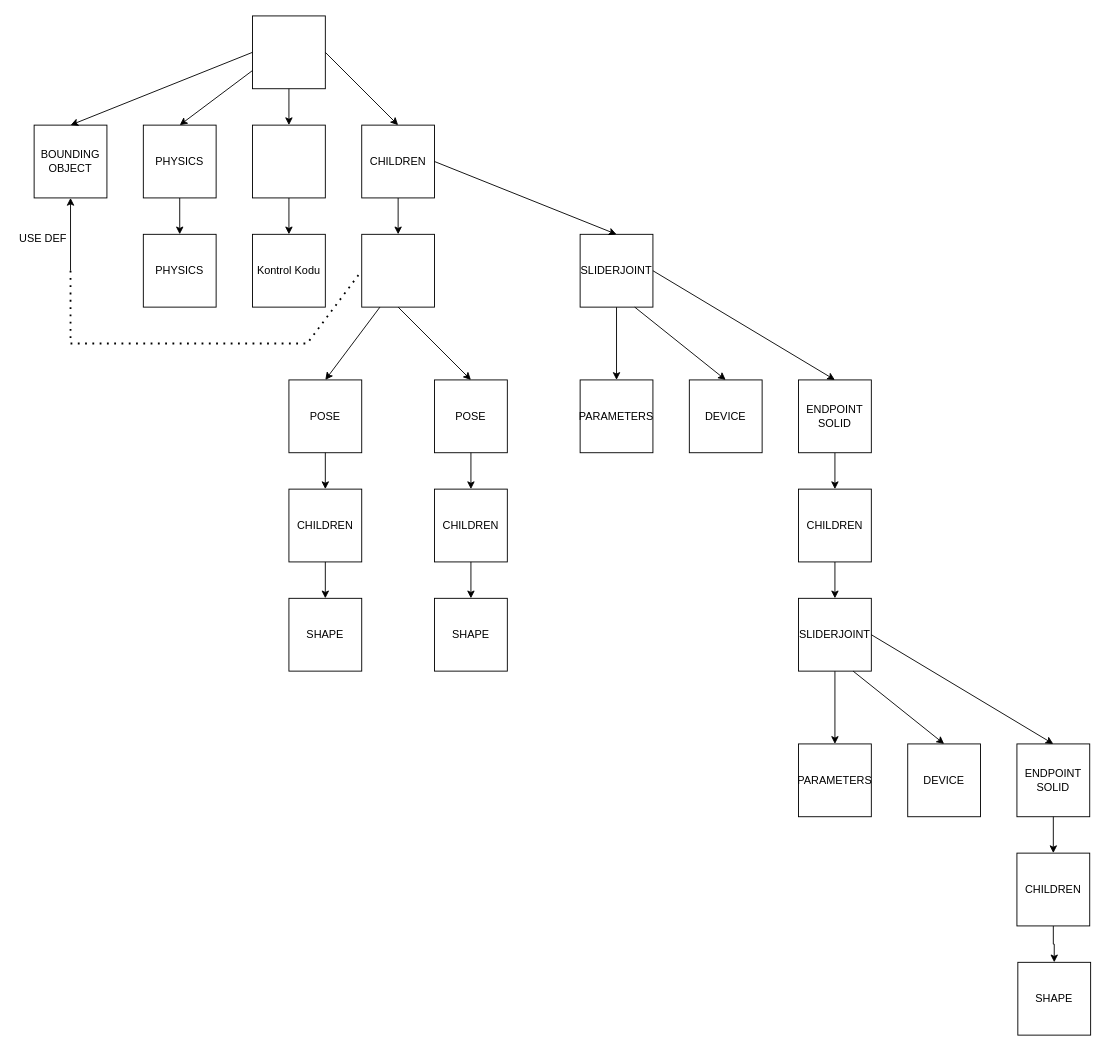
Some shapes in this 1107 by 1051 pixel diagram are drawn without their labels. The centre of each missing label's shape, as x and y in pixels:
CONTROLLER: point 288,161
GROUP: point 398,270
ROBOT: point 288,52
